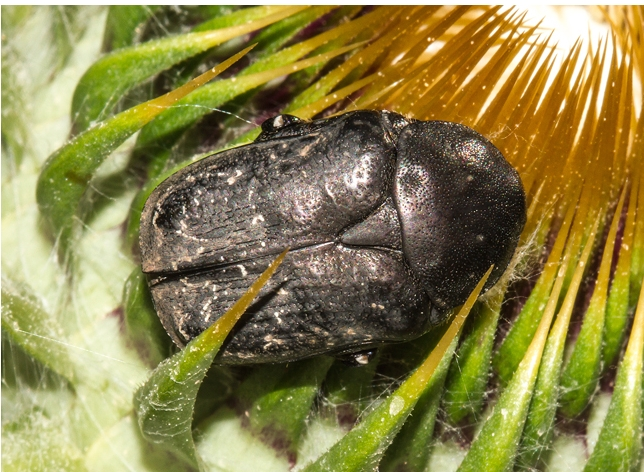Protaetia_vidua: (136, 108, 536, 368)
